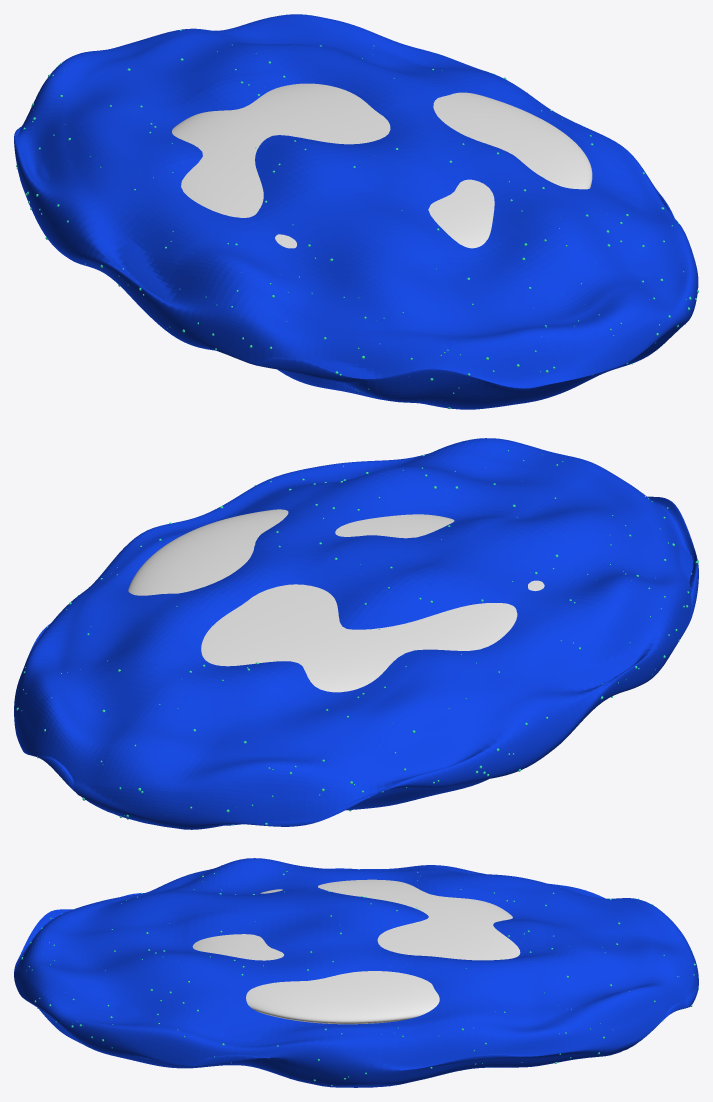
The model's file is water.fbx.
3 renders of one model, top to bottom at view 1: azimuth 30°, elevation 25°; view 2: azimuth 150°, elevation 25°; view 3: azimuth 270°, elevation 25°, orthographic. The views are drawn at different scales.
Visible parts, largest first — view 1: Cube, Cube.001; view 2: Cube, Cube.001; view 3: Cube, Cube.001.
Part boxes in pixels (box(x1,y1,x2,y2)): Cube: box(14, 14, 698, 409); Cube.001: box(172, 83, 592, 248); Cube: box(14, 438, 698, 829); Cube.001: box(128, 509, 544, 692); Cube: box(14, 858, 698, 1087); Cube.001: box(192, 879, 520, 1024).
Bounding box in the file's own units: 56417 × 14302 × 86074.
